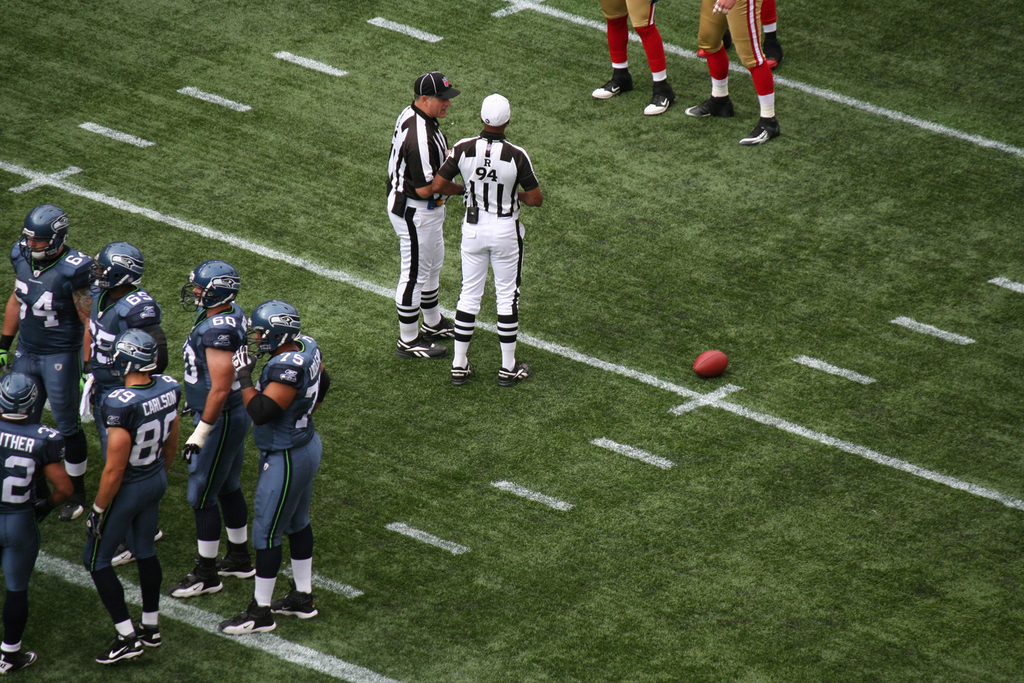Person: (0, 0, 782, 675)
